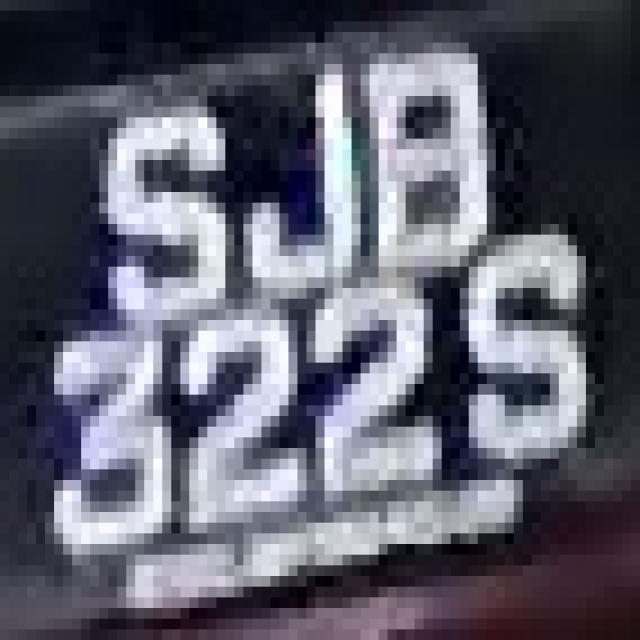2: (298, 277, 450, 534), (180, 266, 306, 554)
3: (27, 298, 171, 586)
B: (360, 21, 504, 288)
J: (207, 42, 388, 298)
S: (433, 213, 595, 491), (90, 85, 234, 320)
